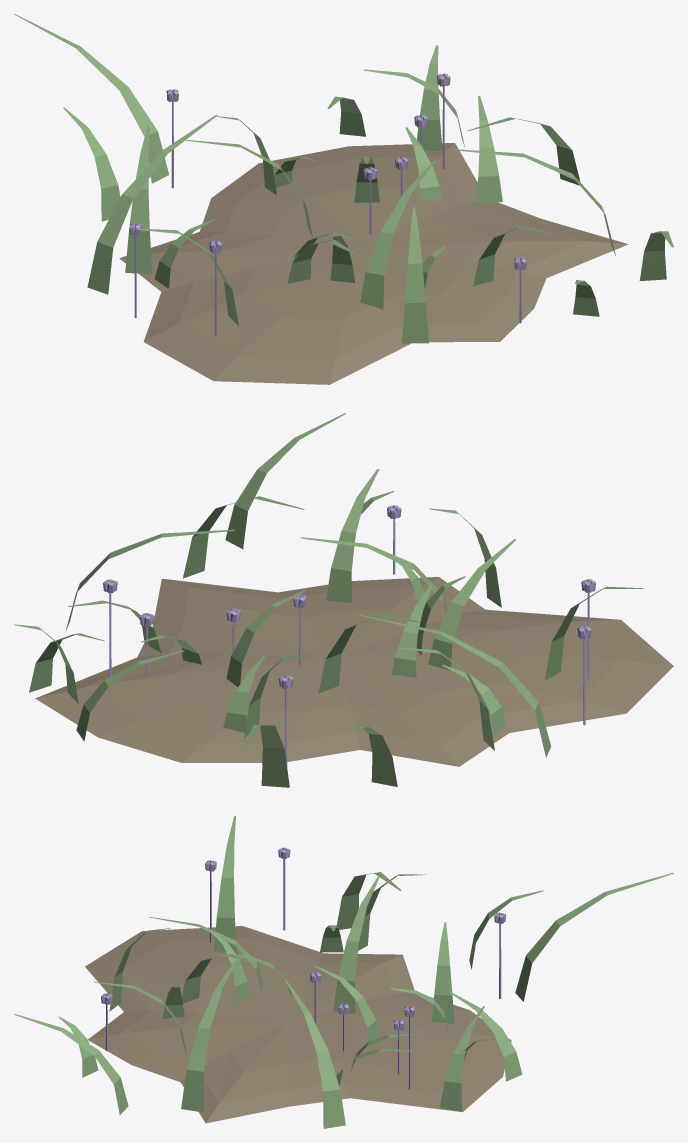
Rendered from dense-temperate-forest-flora-bluebell-patch-5ea679cd__28381.glb.
The picture shows the model from 3 angles, top to bottom: view 1: azimuth 30°, elevation 25°; view 2: azimuth 150°, elevation 25°; view 3: azimuth 270°, elevation 25°; orthographic projection. The views are drawn at different scales.
Parts seen in each view (by area): view 1: bluebell-patch; view 2: bluebell-patch; view 3: bluebell-patch.
Part boxes in pixels (<box>): bluebell-patch: <box>14,14,673,384</box>; bluebell-patch: <box>14,413,673,787</box>; bluebell-patch: <box>14,816,673,1128</box>.
Size of the model in its own units: 1.77 by 0.4088 by 2.32.
